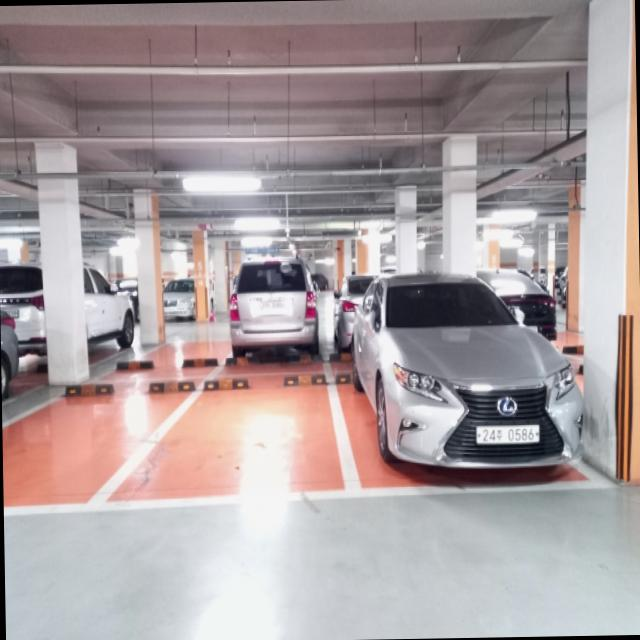car: (343, 268, 574, 486), (232, 255, 322, 364)
free: (152, 372, 357, 502), (1, 382, 177, 512)
